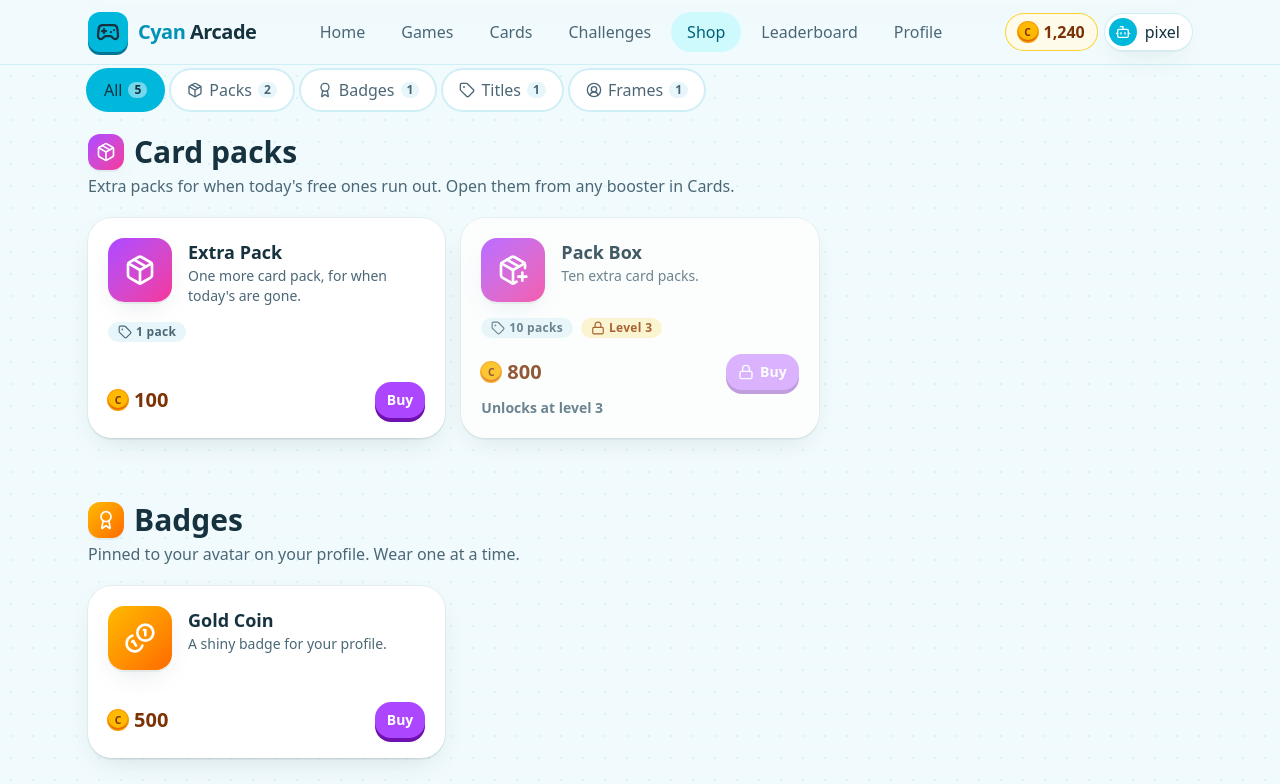
Test: the shop › uses a new request id for every purchase the player means to make
(page scrolled)
Click the button with aria-label "buy extra pack".
click(400, 400)  # box [375,382,425,418]
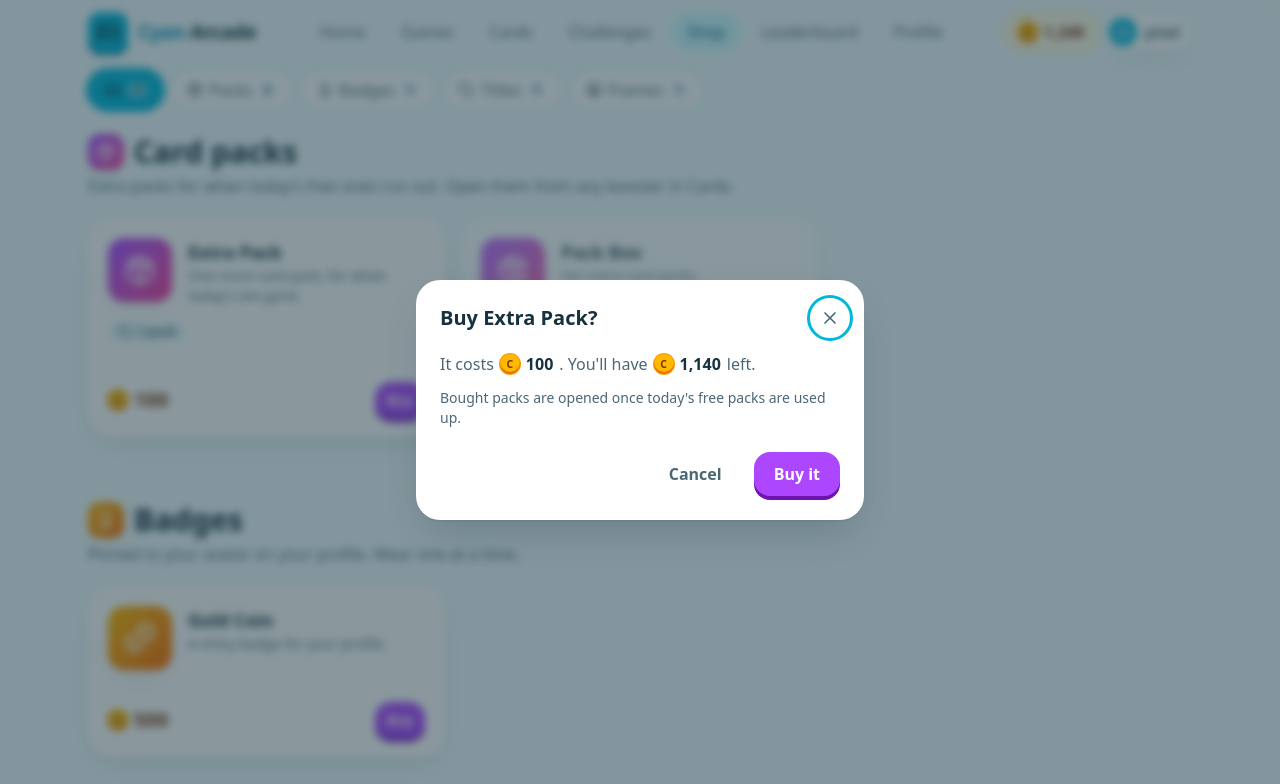
Click the button "Buy it".
click(797, 474)  # box [754,452,840,496]
(page scrolled)
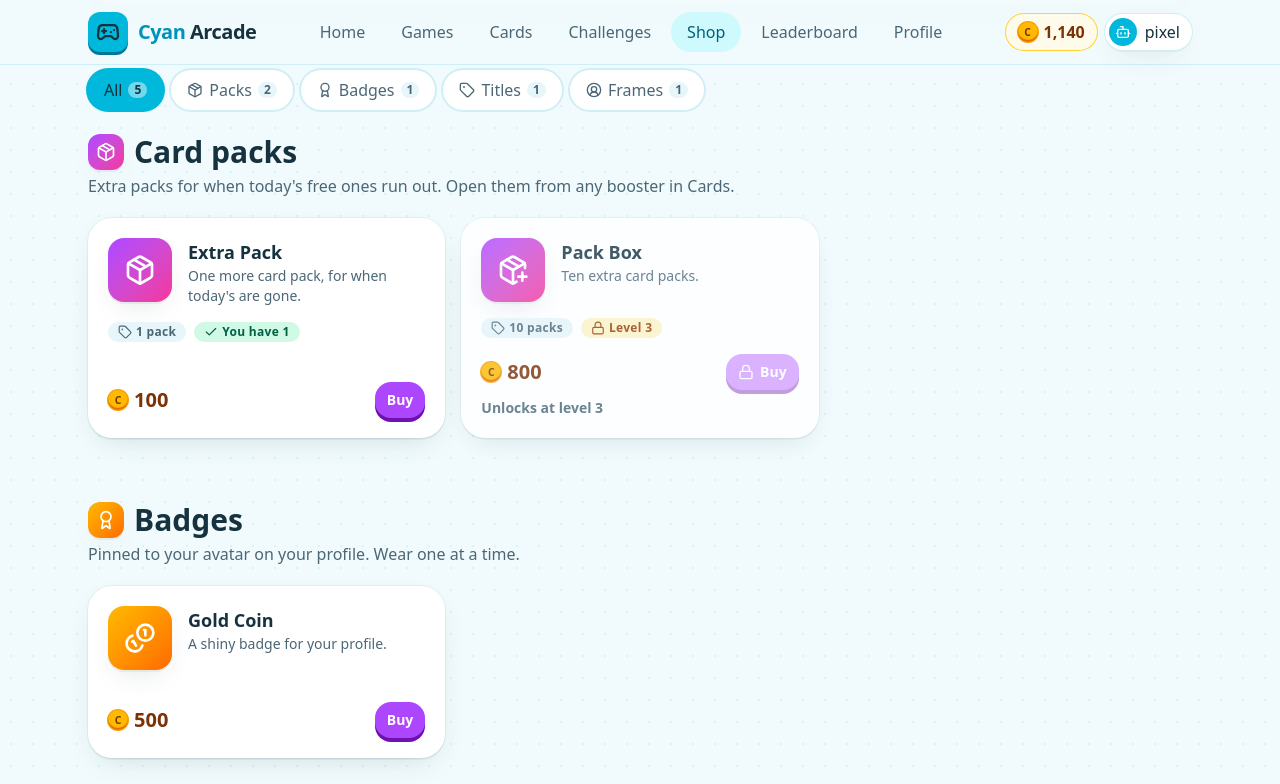
Click the button with aria-label "buy extra pack".
click(400, 400)  # box [375,382,425,418]
(page scrolled)
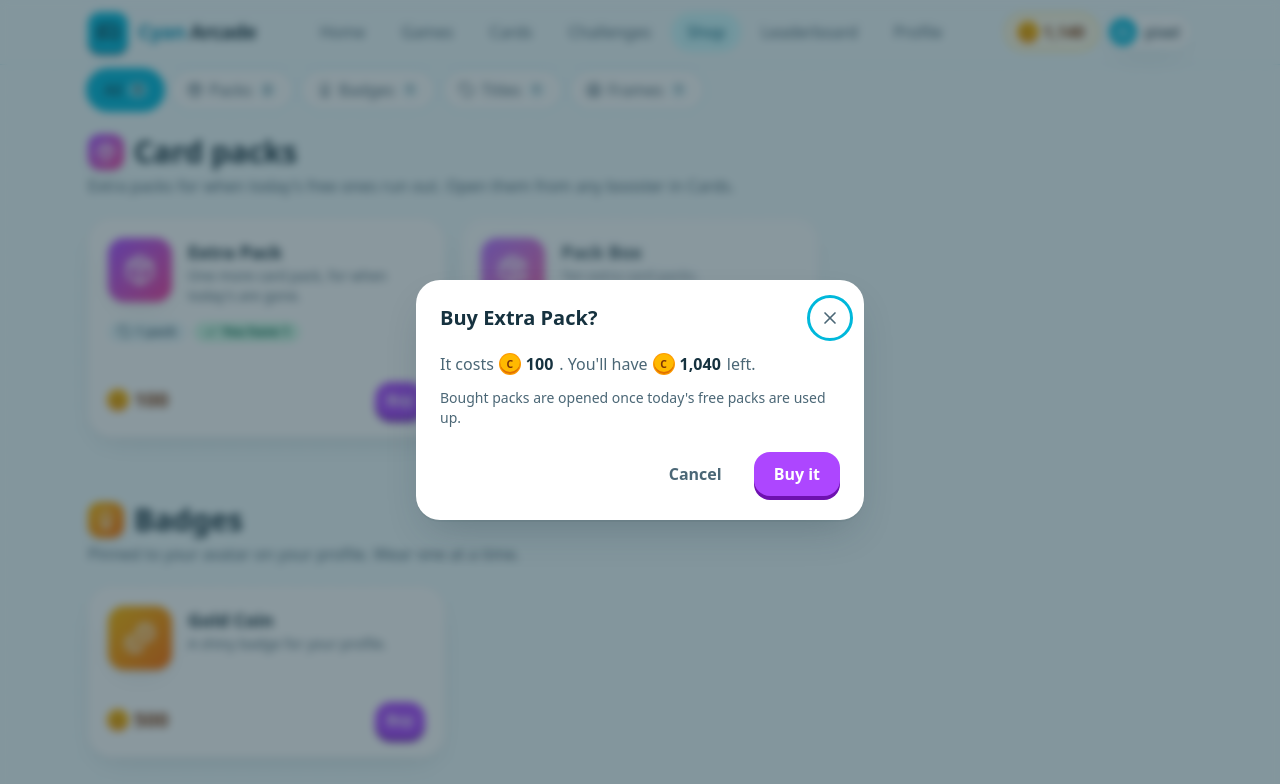
Click the button "Buy it".
click(797, 474)  # box [754,452,840,496]
(page scrolled)
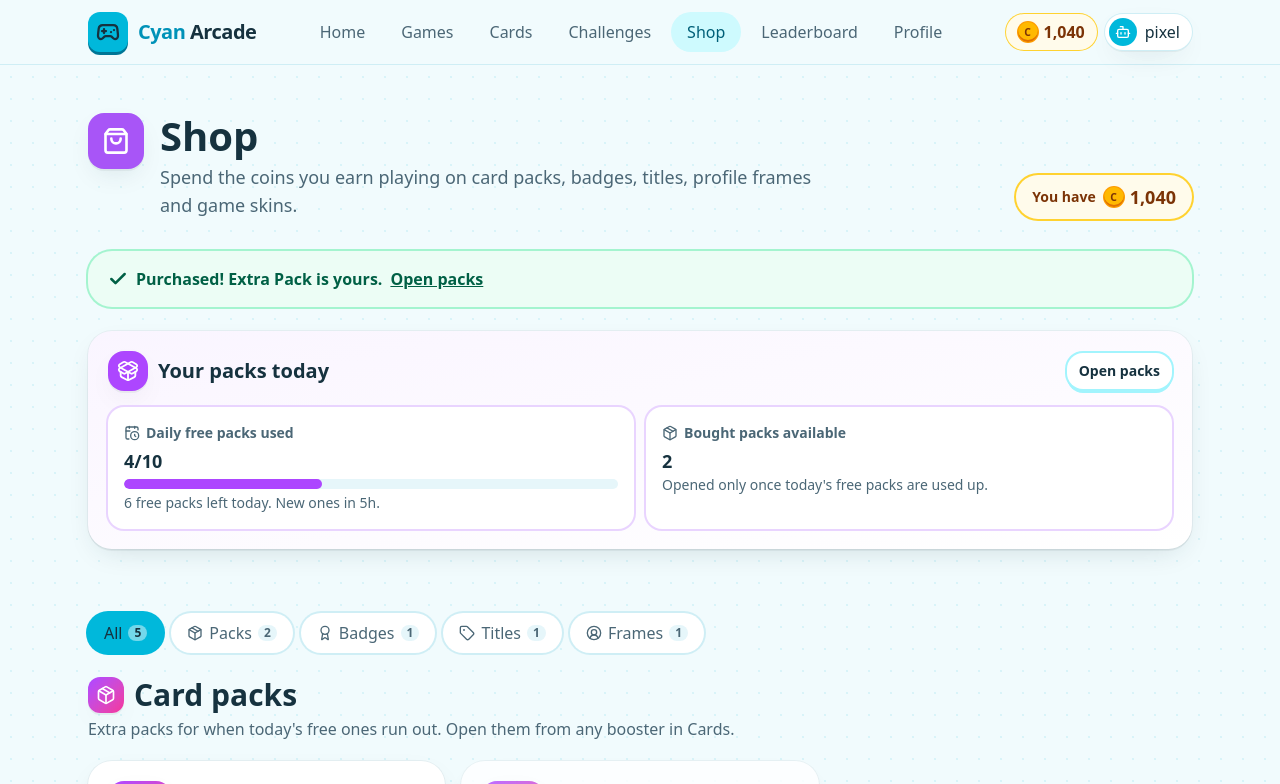
Check: the message "Purchased! Extra Pack is yours. Open packs" is shown, box [88,251,1192,307]
